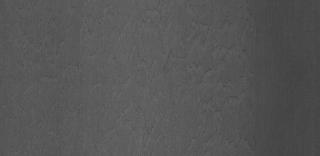silk spot: (91, 32, 172, 114), (176, 26, 234, 90), (193, 92, 255, 142), (116, 7, 166, 24)
